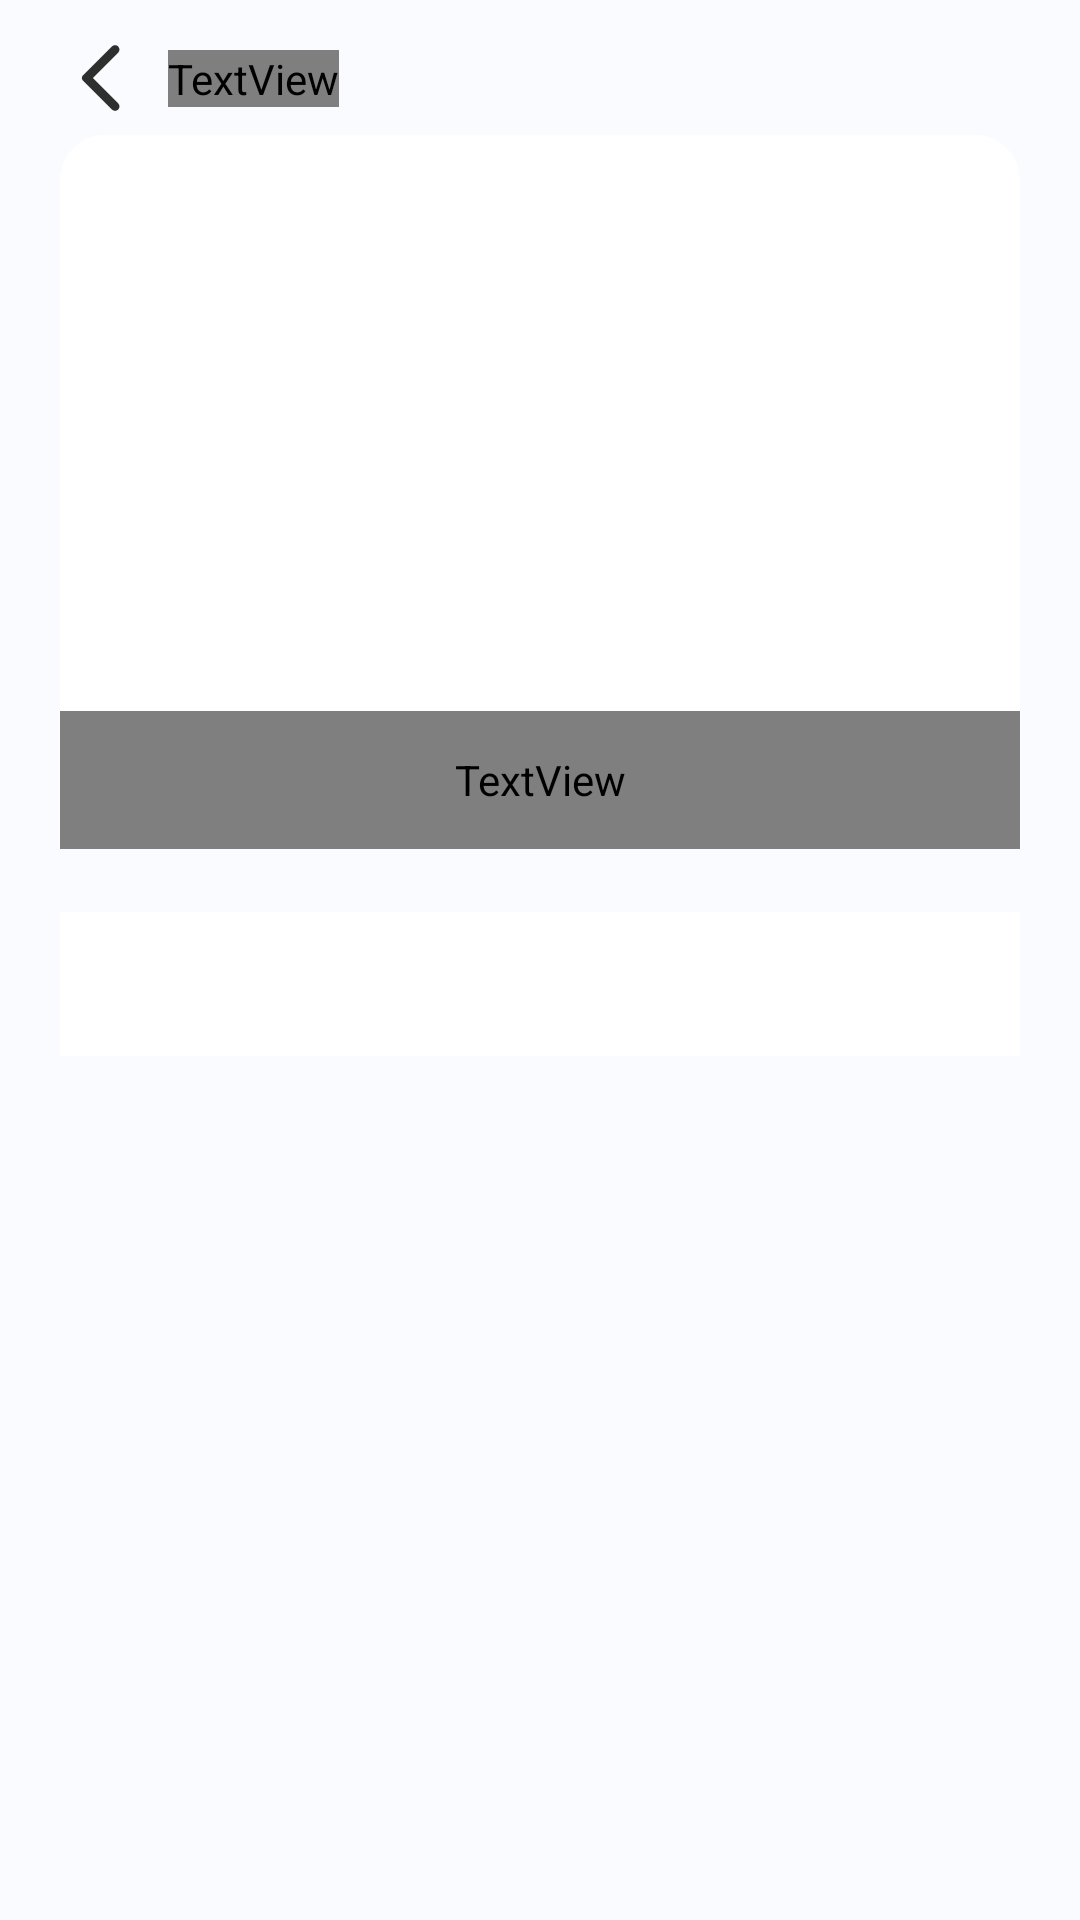

Locate icon controls on the screen. Image size 1080 × 1920, boxes as (x1, y1, x2, y2).
arrow back: (82, 45, 120, 111)
